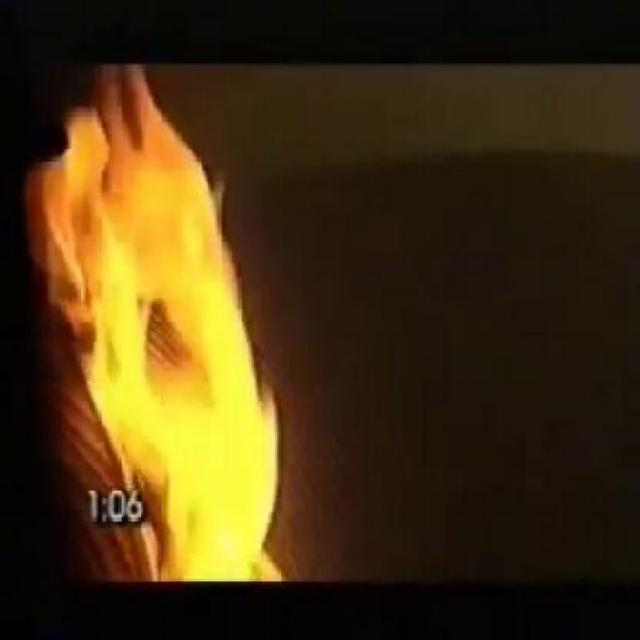fire: (26, 66, 300, 579)
